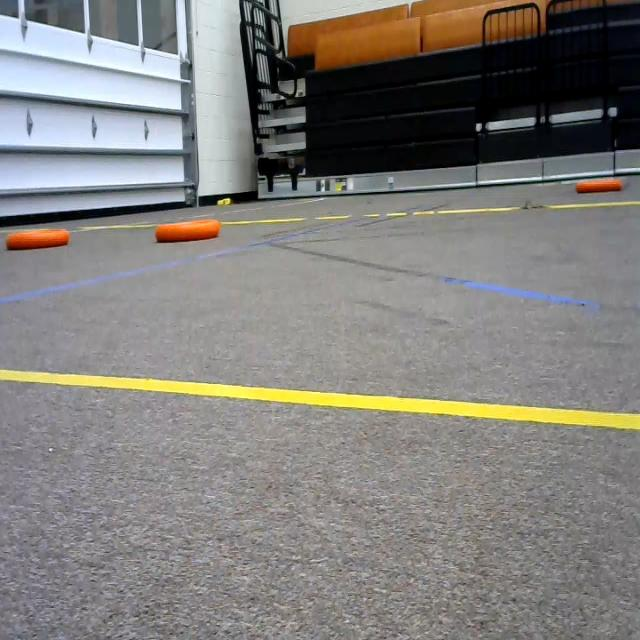note: (154, 214, 226, 250), (4, 223, 74, 257), (576, 176, 626, 197)
